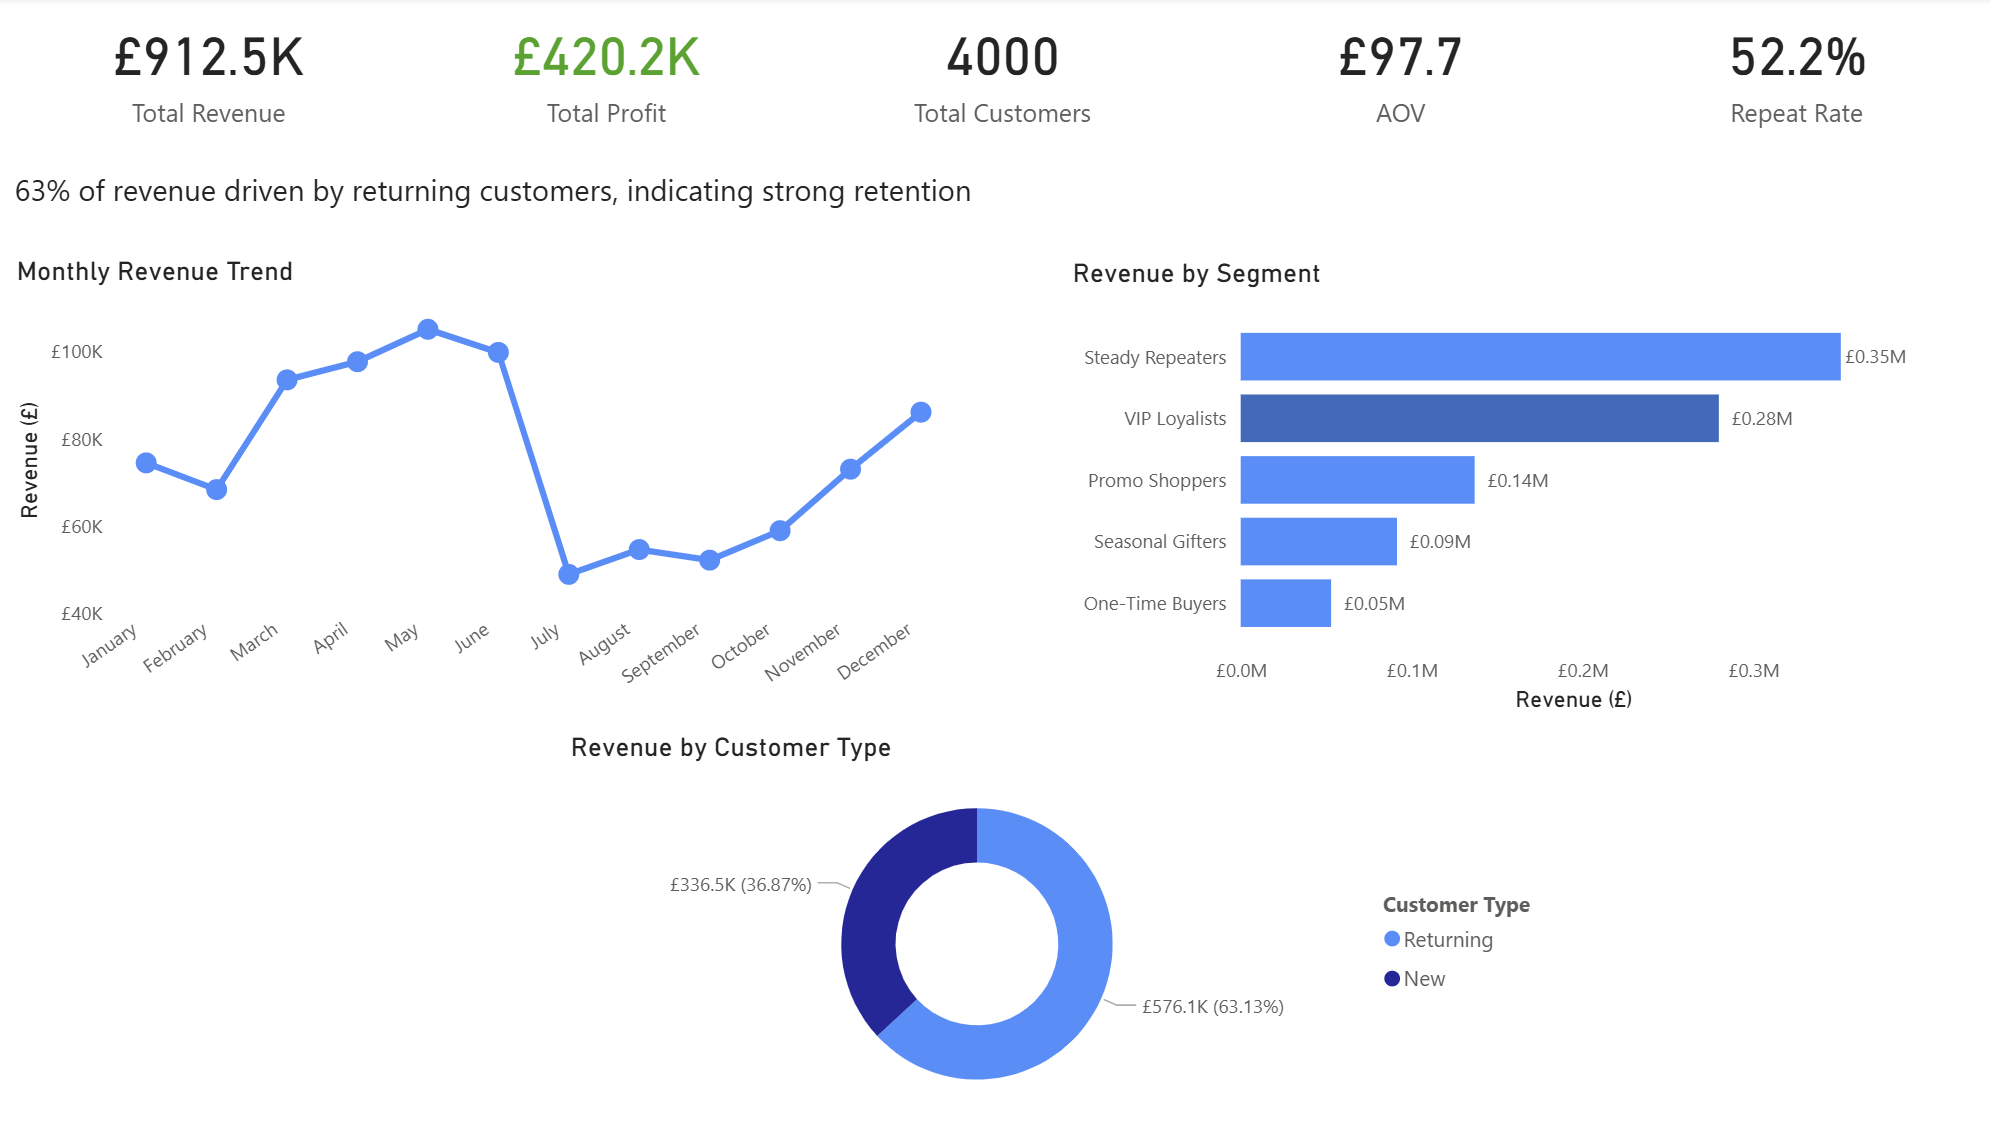

Layout of this report page (visuals, bound fields, positions):
{"tool":"powerbi","page":{"name":"Executive Summary","canvas":[1280,720],"ordinal":0},"visuals":[{"type":"card","fields":{"Values":["orders.Total Revenue"]},"box":[10.7,0,257.2,93.4],"z":0},{"type":"card","fields":{"Values":["orders.Total Profit"]},"box":[263.8,0,257,93.4],"z":1000},{"type":"card","fields":{"Values":["orders.Total Customers"]},"box":[516.7,0,257,93.4],"z":2000},{"type":"card","fields":{"Values":["orders.AOV"]},"box":[769.6,0,257.2,93.4],"z":3000},{"type":"card","fields":{"Values":["orders.Repeat Rate"]},"box":[1022.8,0,257.2,93.4],"z":4000},{"type":"lineChart","title":"Monthly Revenue Trend","fields":{"Y":["orders.Total Revenue"],"Category":["orders.order_date.Variation.Date Hierarchy.Month"]},"box":[11.5,165.7,604.3,295.8],"z":5000},{"type":"donutChart","title":"Revenue by Customer Type","fields":{"Category":["orders.Customer Type"],"Y":["orders.Total Revenue"]},"box":[364.6,469.2,638.7,251.2],"z":6000},{"type":"barChart","title":"Revenue by Segment","fields":{"Category":["orders.customer_segment"],"Y":["orders.Total Revenue"]},"box":[684.6,167,558.4,294.5],"z":7000},{"type":"textbox","box":[10.2,105.8,711.4,59.9],"z":8000}]}

Visuals, with their boxes in screenshot pixels (x1, y1, x2, y2), scaled from the page's 1280x720 canvas onto the 1991x1122 screenshot:
card - orders.Total Revenue: 17 0 417 146
card - orders.Total Profit: 410 0 810 146
card - orders.Total Customers: 804 0 1203 146
card - orders.AOV: 1197 0 1597 146
card - orders.Repeat Rate: 1591 0 1990 146
"Monthly Revenue Trend" lineChart: 18 258 958 719
"Revenue by Customer Type" donutChart: 567 731 1561 1121
"Revenue by Segment" barChart: 1065 260 1933 719
textbox: 16 165 1122 258
